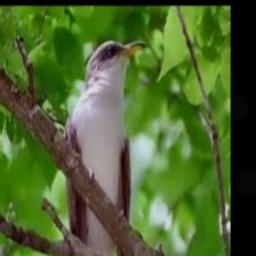Cuckoo: (63, 38, 144, 256)
